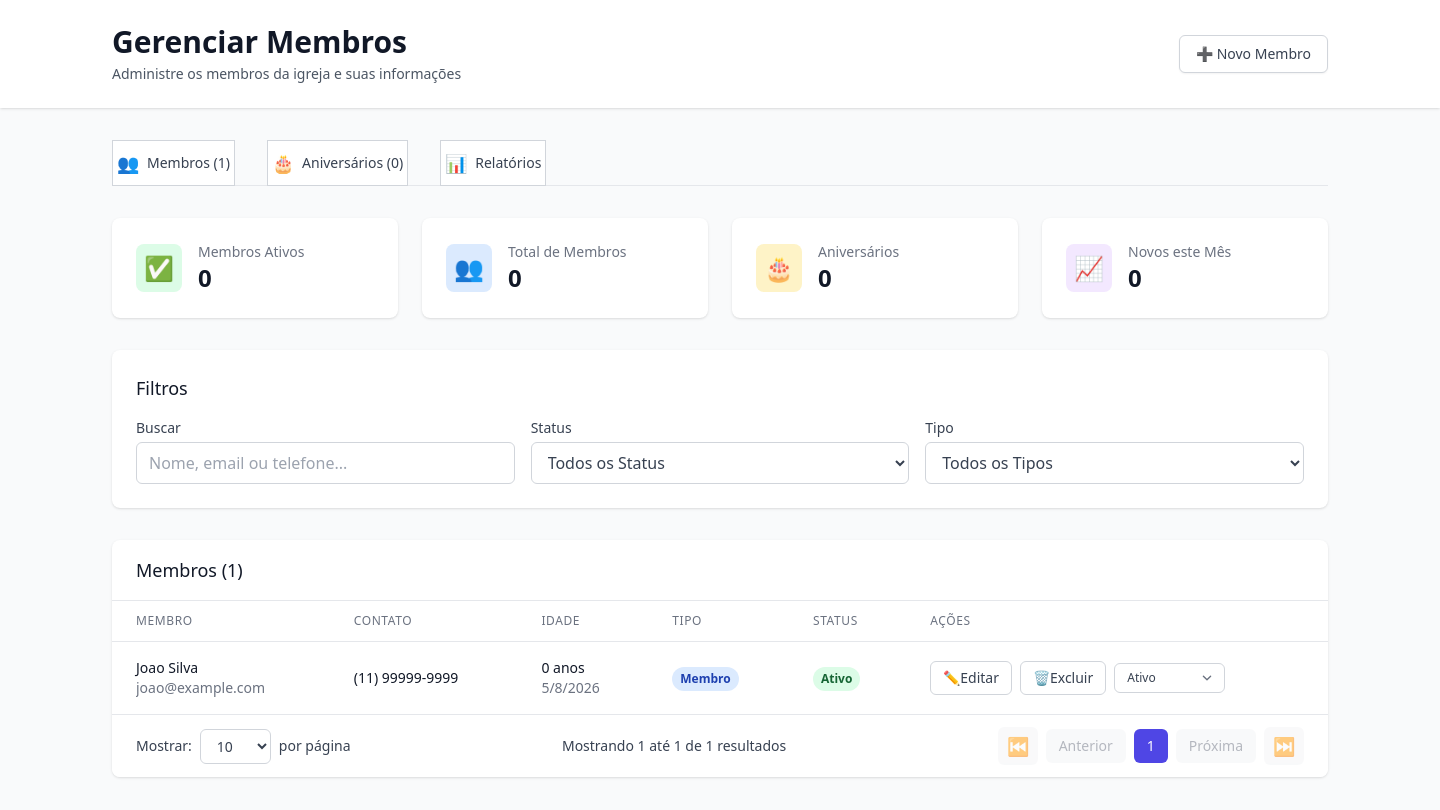
Test case: MembersManagementPage › Birthdays Tab › should show empty message when no birthdays in current month
Expected: the text "Joao Silva" is shown, [136,658,198,677]
Switch to birthdays tab
Click the button "🎂 Aniversários (0)".
click(338, 163)  # box [267,140,408,186]
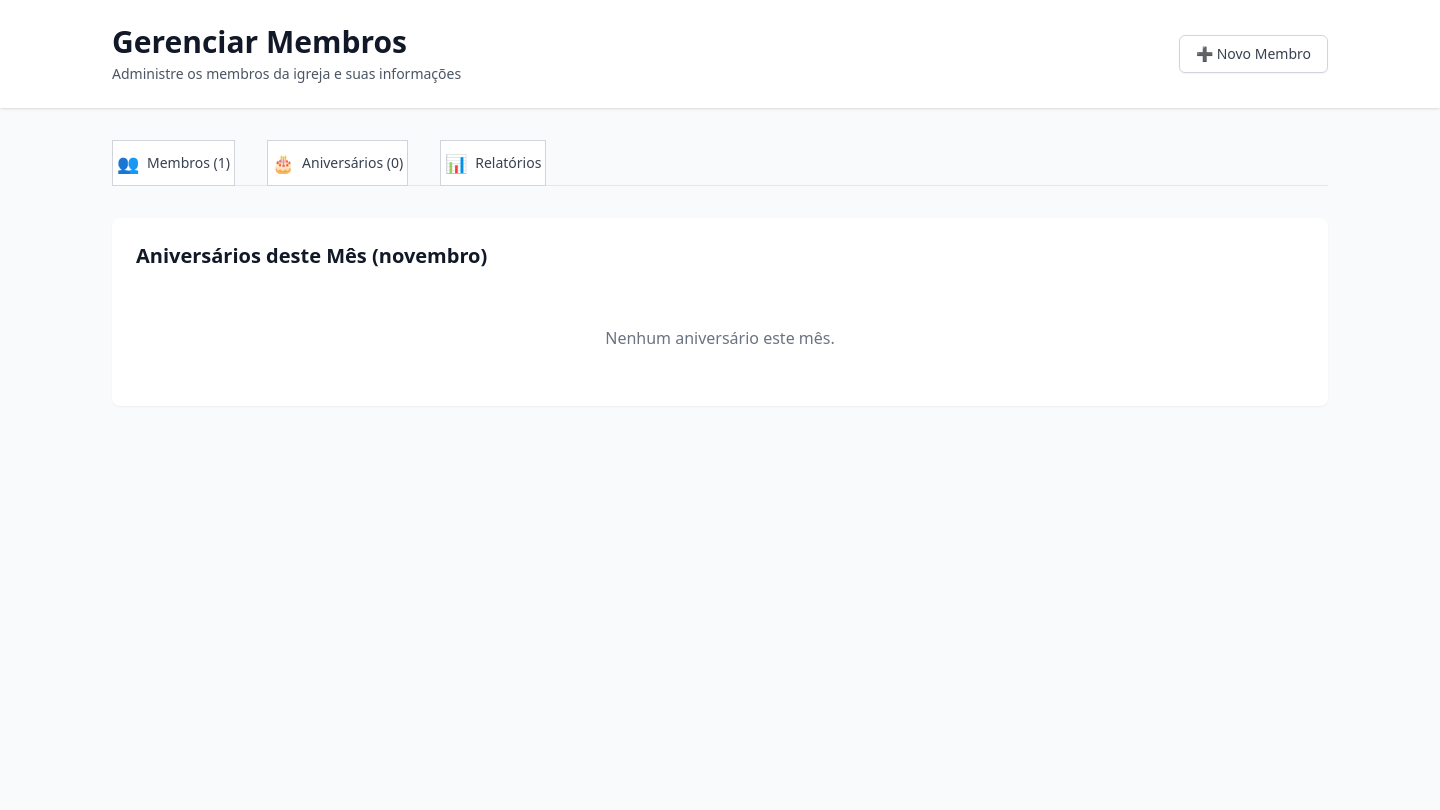
Now the text "Nenhum aniversário este mês." is shown, box [605,327,835,349]
